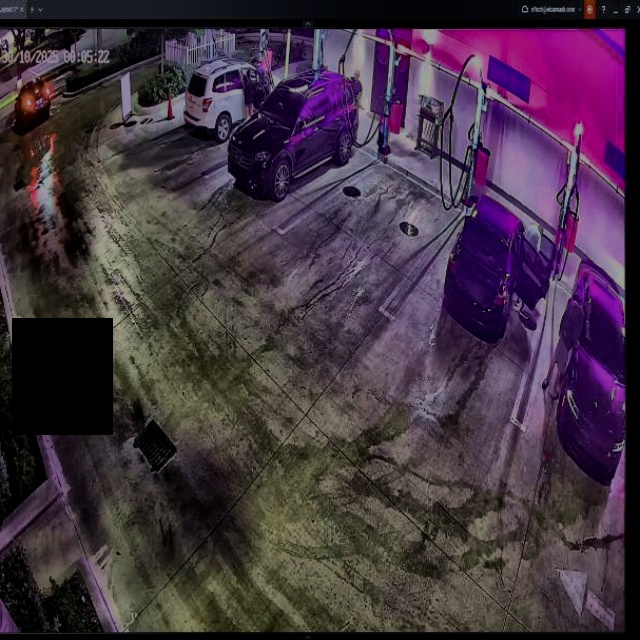Car: (226, 67, 357, 198), (443, 195, 556, 333)
